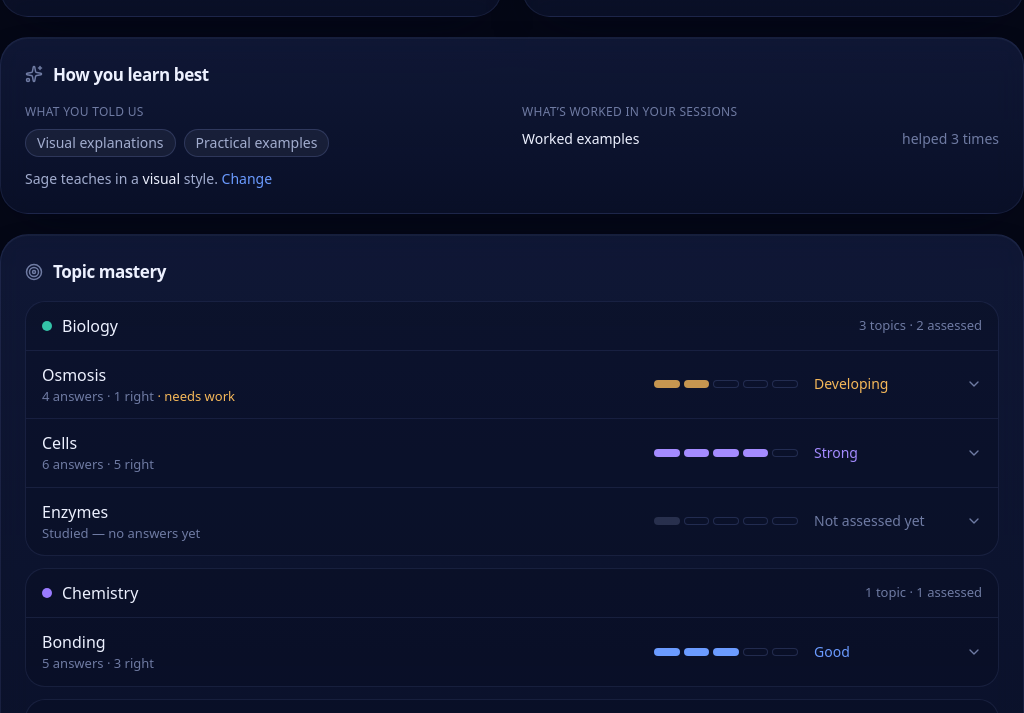
My Learning Profile — with evidence › expands a topic to show the evidence and resets it after confirmation
Later steps or results of the test are not shown.
(page scrolled)
Click the button "Osmosis 4 answers · 1 right · needs work Developing" at (74,374), box [26, 350, 998, 418]
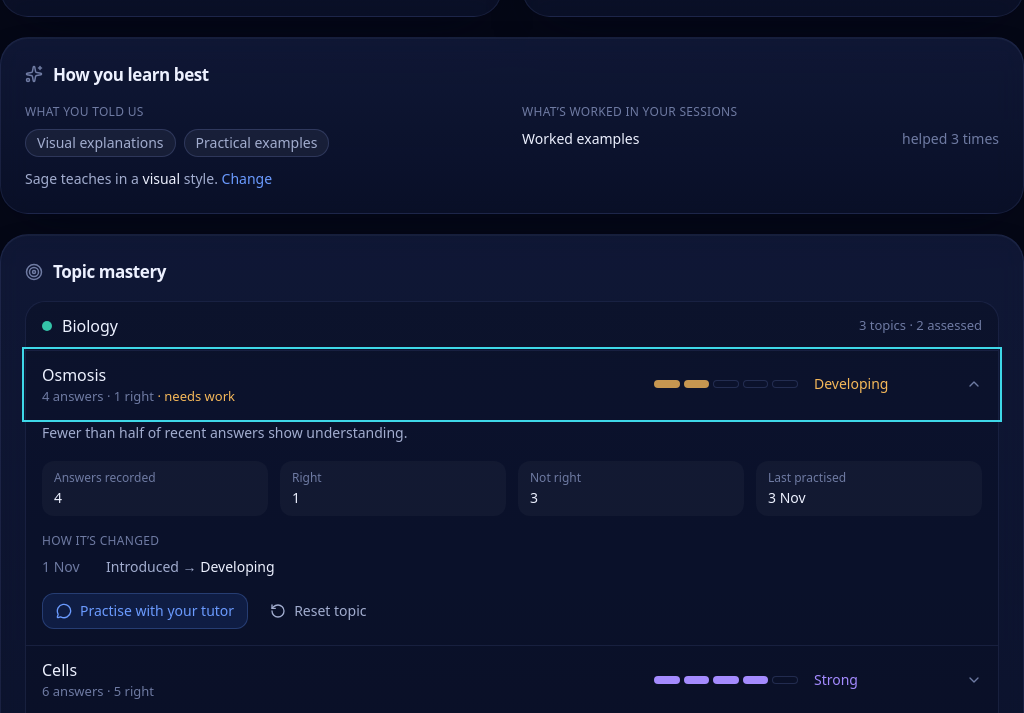
Now the text "4" is shown, box [54, 488, 62, 507]
